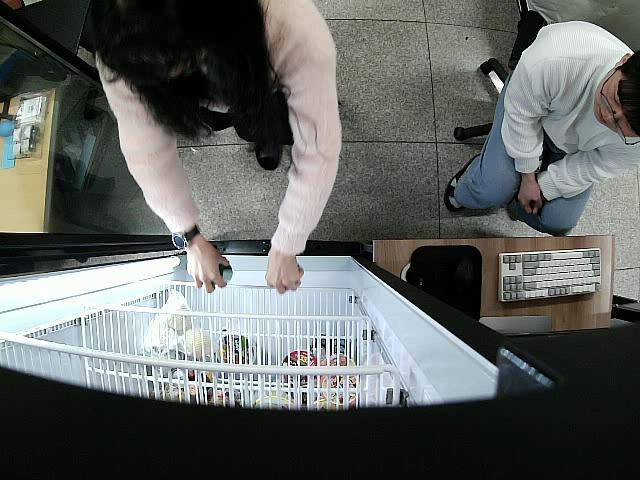12_chilsungCider: (210, 259, 234, 290)
